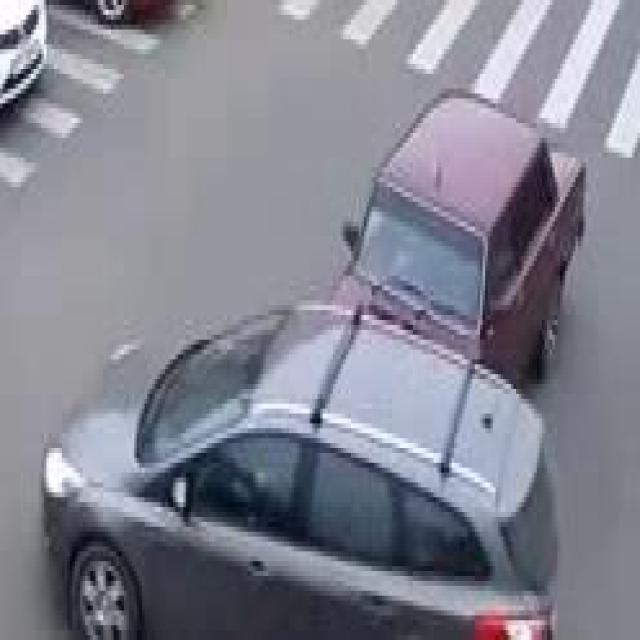accident: (39, 88, 589, 640)
